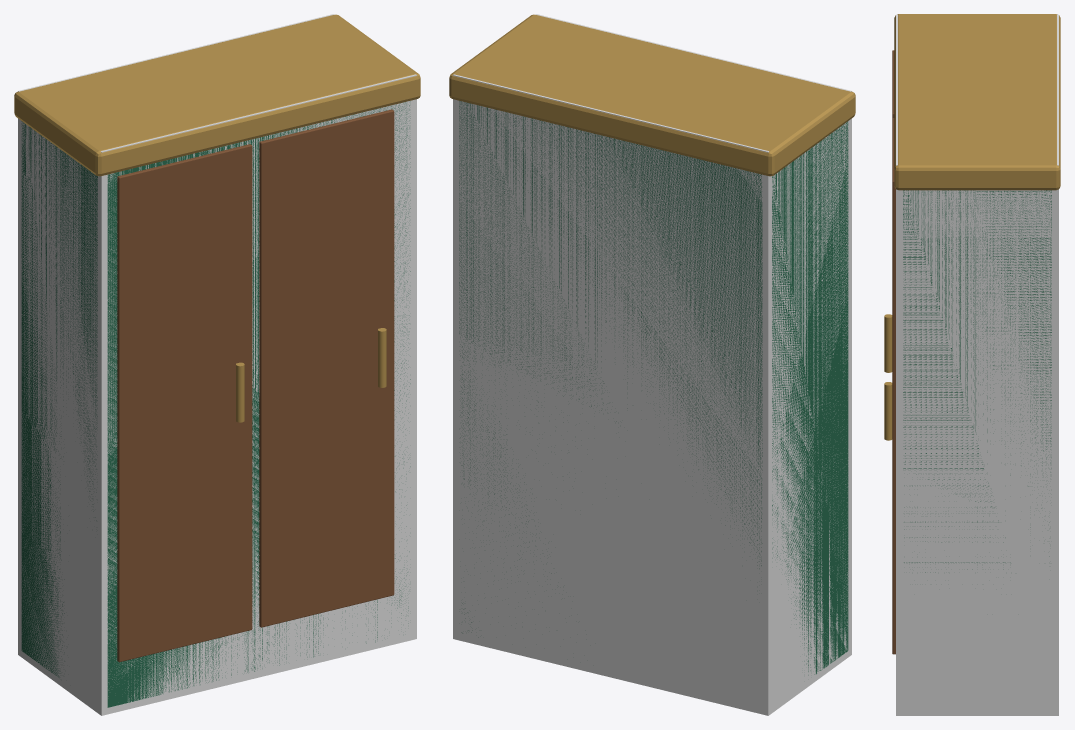
Rendered from member-locker_luxury.glb.
3 views of the same model, side by side, from view 1: azimuth 30°, elevation 25°; view 2: azimuth 150°, elevation 25°; view 3: azimuth 270°, elevation 25° (orthographic). The views are drawn at different scales.
Visible parts, largest first — view 1: COL_member-locker, MESH_Door_02, MESH_Door_01, MESH_CabinetCarcass, MESH_Crown; view 2: COL_member-locker, MESH_CabinetCarcass, MESH_Crown; view 3: COL_member-locker, MESH_Crown, MESH_CabinetCarcass, MESH_Door_02, MESH_Handle, MESH_Handle.001.
Boxes of the visible parts, box(x1,y1,x2,y2) form: COL_member-locker: box(18, 14, 416, 715); MESH_Door_02: box(259, 109, 394, 627); MESH_Door_01: box(117, 144, 252, 662); MESH_CabinetCarcass: box(21, 101, 410, 707); MESH_Crown: box(14, 14, 420, 176); COL_member-locker: box(453, 14, 851, 715); MESH_CabinetCarcass: box(459, 101, 848, 675); MESH_Crown: box(449, 14, 855, 176); COL_member-locker: box(896, 14, 1058, 715); MESH_Crown: box(894, 14, 1060, 190); MESH_CabinetCarcass: box(903, 190, 1051, 572); MESH_Door_02: box(892, 118, 895, 654); MESH_Handle: box(884, 314, 892, 372); MESH_Handle.001: box(884, 382, 892, 440).
Size of the model in its own units: 1.24 by 2.05 by 0.5946.
